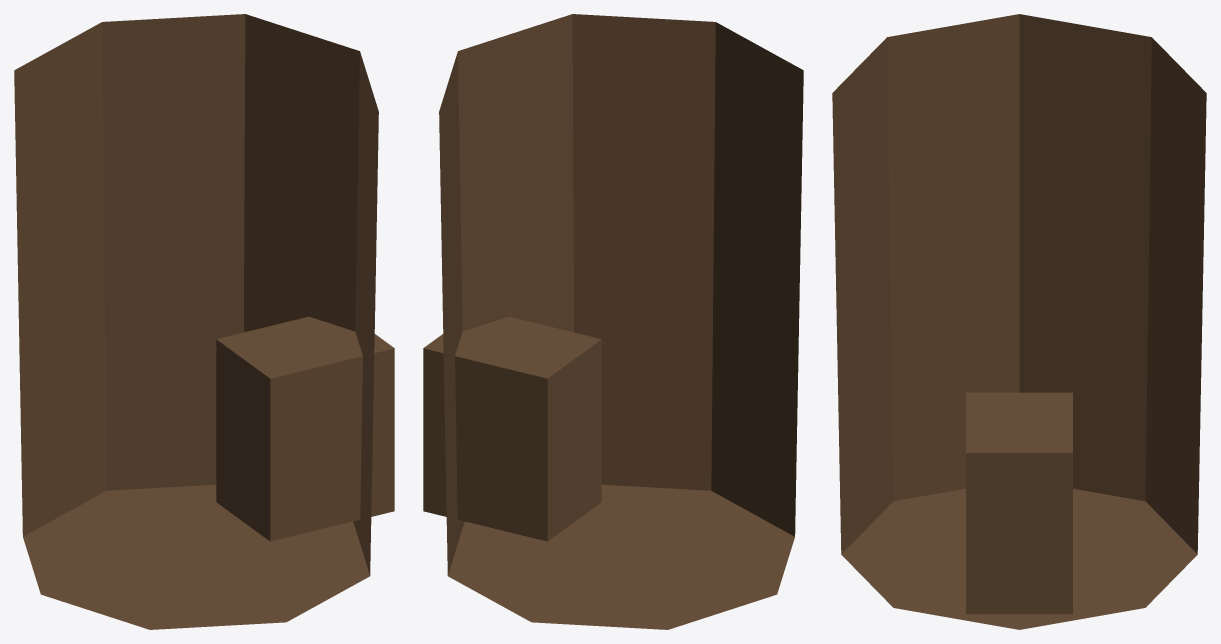
Rendered from resource_pine_stump.glb.
3 views of the same model, side by side, from view 1: azimuth 30°, elevation 25°; view 2: azimuth 150°, elevation 25°; view 3: azimuth 270°, elevation 25° (orthographic).
Parts seen in each view (by area): view 1: resource_pine_stump; view 2: resource_pine_stump; view 3: resource_pine_stump.
Boxes of the visible parts, x1,y1,x2,y2 form: resource_pine_stump: (14,14,394,629); resource_pine_stump: (423,14,803,629); resource_pine_stump: (832,14,1206,629).
Bounding box in the file's own units: 0.7525 × 1 × 0.735.
